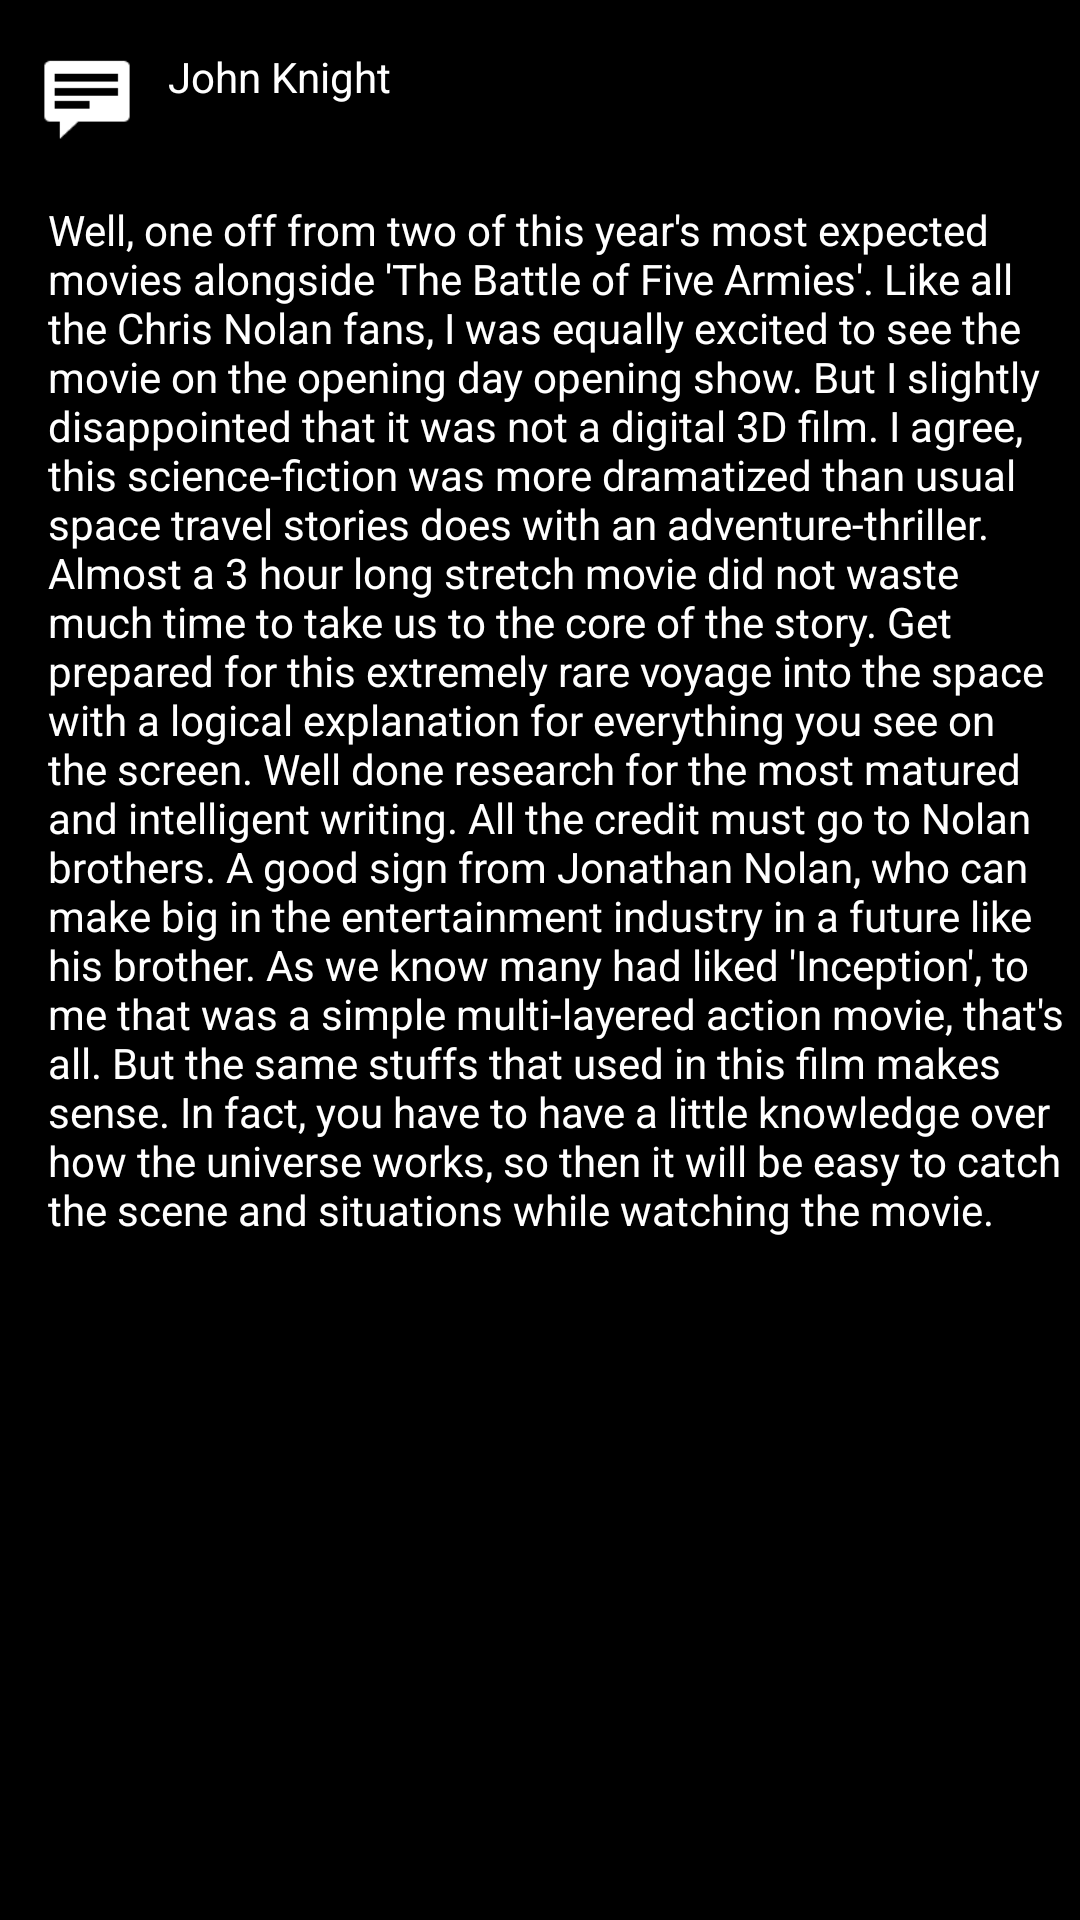

Screen size 1080 x 1920. Icon name, then its box in pixels as detection(x1, y1, x2, y2):
chat: detection(44, 60, 130, 139)
